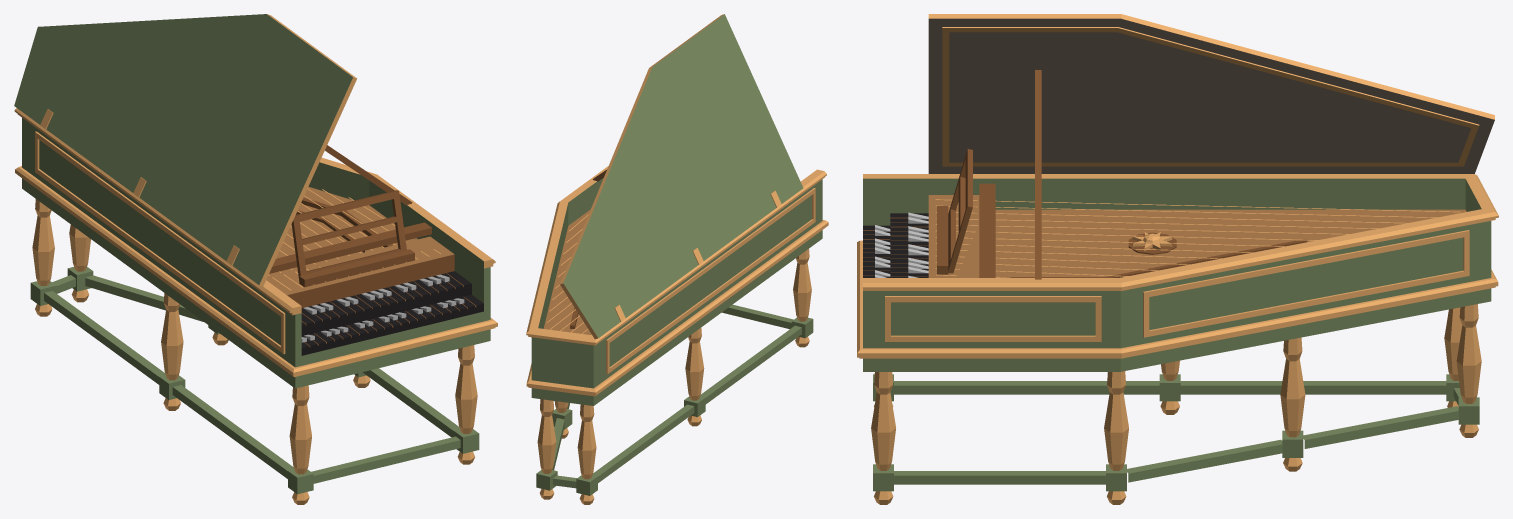
Rendered from harpsichord-ac1869.glb.
3 renders of one model, left to right at view 1: azimuth 30°, elevation 25°; view 2: azimuth 150°, elevation 25°; view 3: azimuth 270°, elevation 25°, orthographic. The views are drawn at different scales.
Visible parts, largest first — view 1: harpsichord-body, harpsichord-gilt, music-desk-mesh; view 2: harpsichord-body, harpsichord-gilt; view 3: harpsichord-body, harpsichord-gilt, music-desk-mesh.
Part boxes in pixels (left/top/right/bottom): harpsichord-body: left=14, top=14, right=490, bottom=494; harpsichord-gilt: left=14, top=14, right=497, bottom=504; music-desk-mesh: left=291, top=190, right=414, bottom=287; harpsichord-body: left=531, top=14, right=822, bottom=495; harpsichord-gilt: left=526, top=14, right=828, bottom=504; harpsichord-body: left=863, top=18, right=1494, bottom=491; harpsichord-gilt: left=857, top=14, right=1498, bottom=504; music-desk-mesh: left=937, top=149, right=972, bottom=274.
Bounding box in the file's own units: 0.979 × 1.77 × 2.35.
